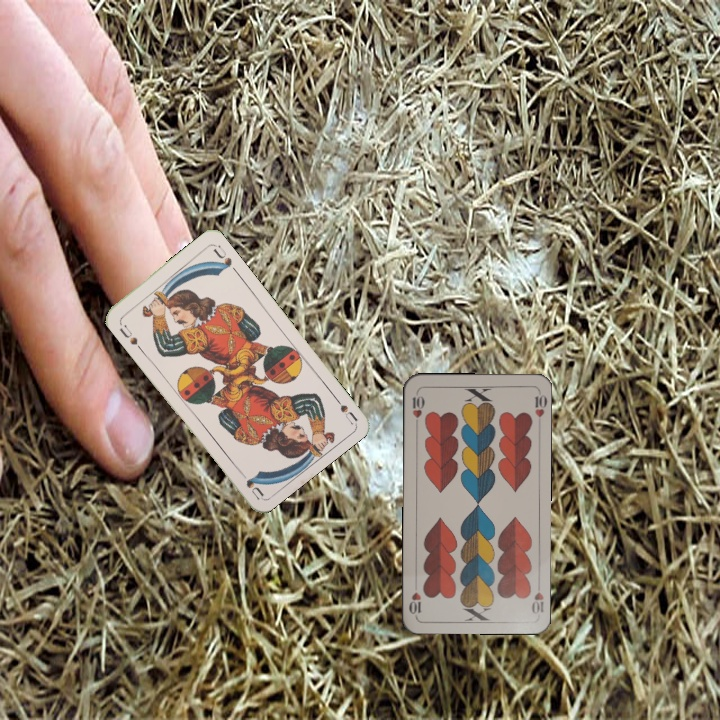H10: (527, 577, 546, 617), (408, 388, 426, 429)
SU: (328, 390, 360, 426), (115, 320, 140, 348)
